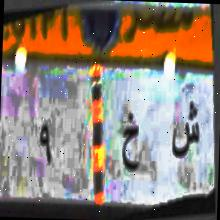9: (34, 116, 54, 173)
khaa: (118, 108, 142, 178)
sheen: (168, 101, 200, 166)
